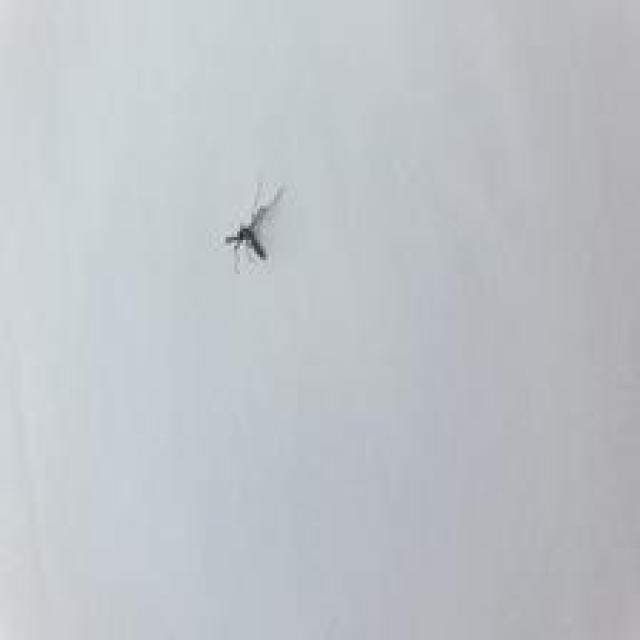Aedes albopictus: (223, 181, 286, 273)
